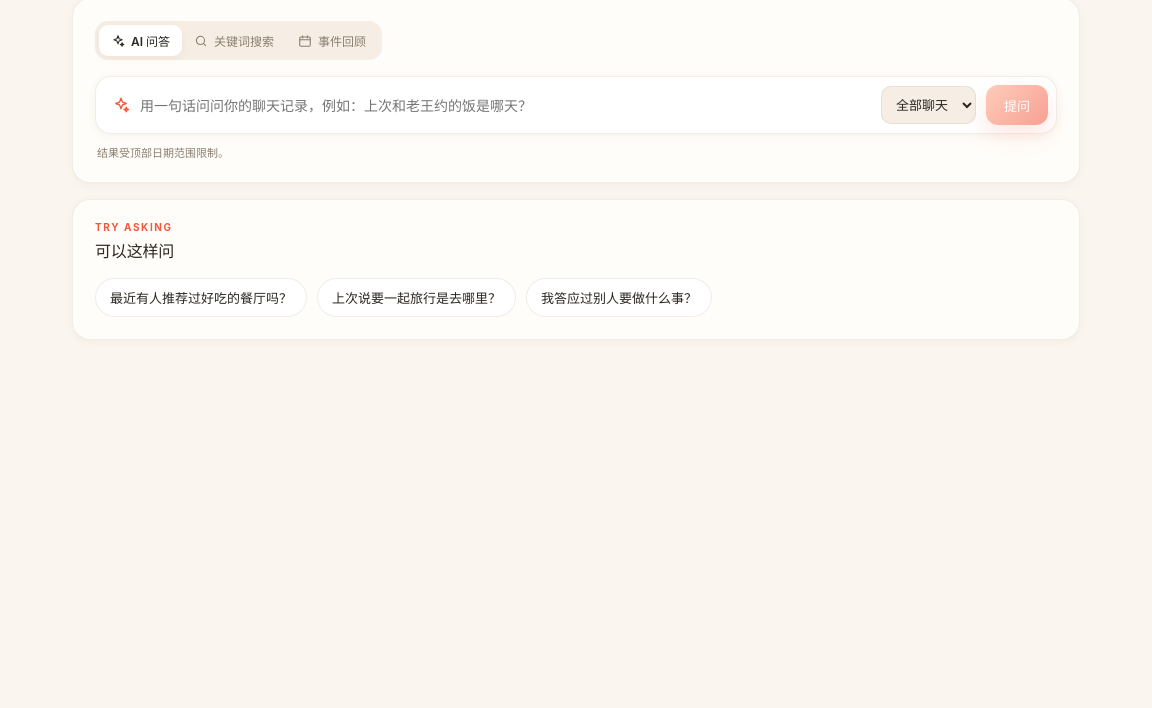
event review › routes a private-chat recap to that chat instead of all chats
Select "小艾" in the dropdown named "搜索范围": (928, 105) top-left (881, 86), bottom-right (976, 124)
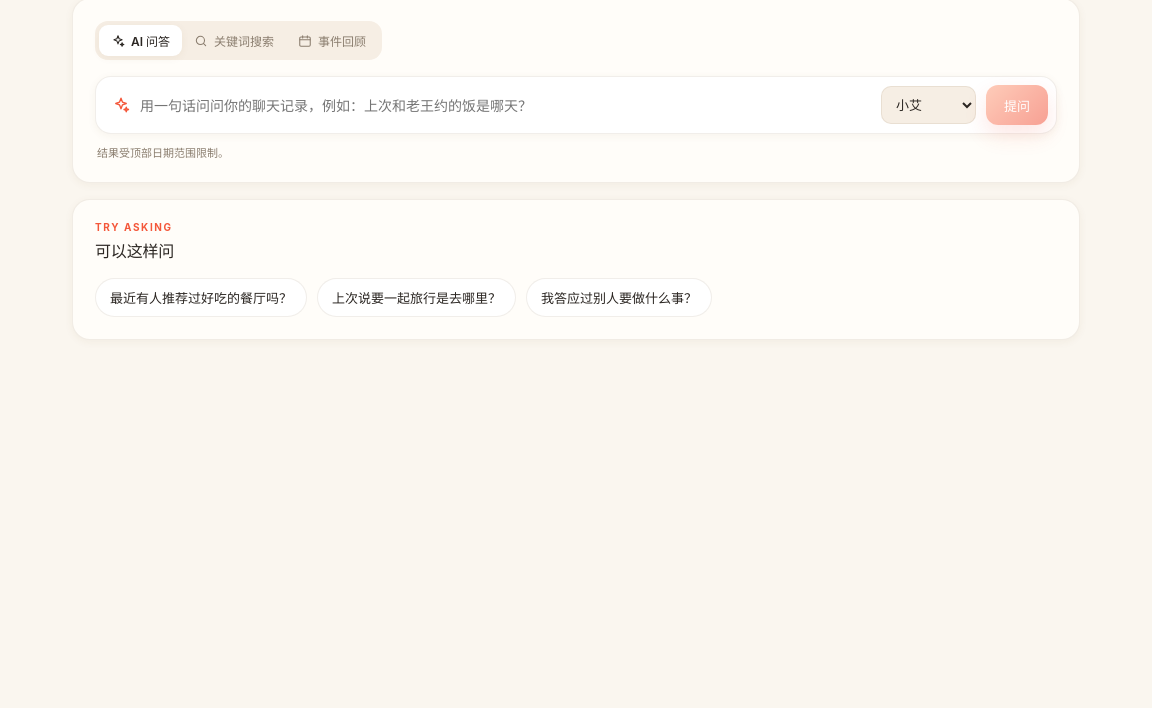
In the field named "输入问题": (506, 105) top-left (140, 88), bottom-right (871, 122), type "2026-10-27发生了什么"
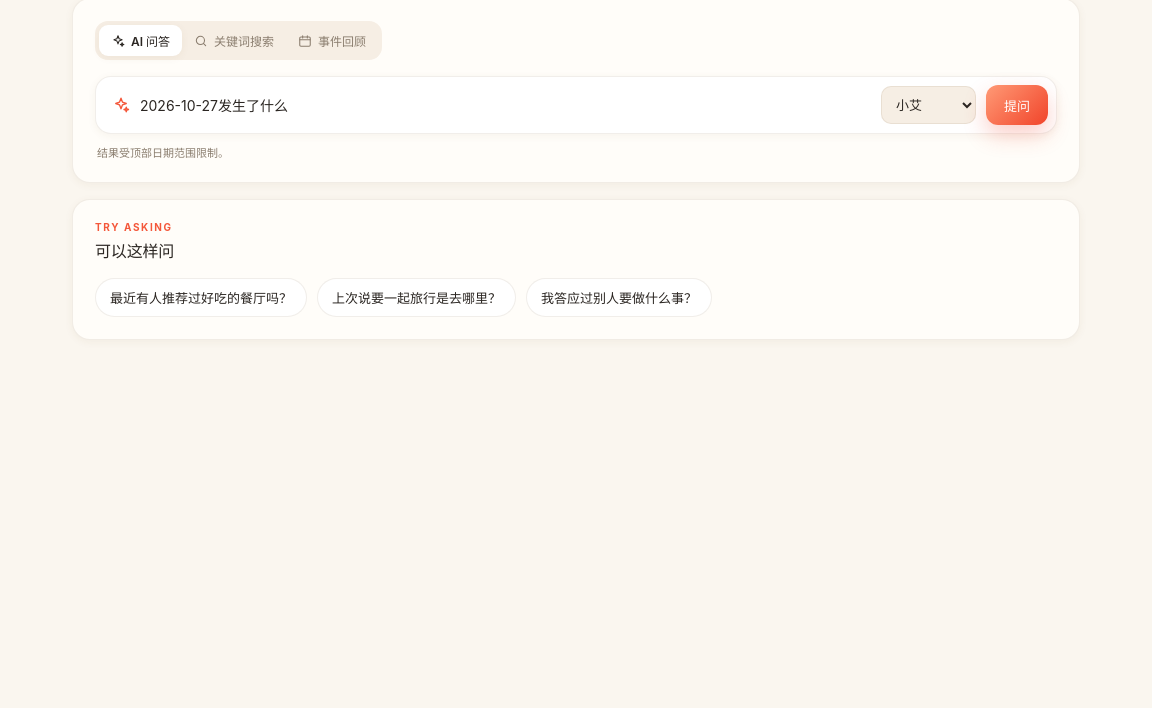
Click the button "提问": click(1017, 105) top-left (986, 85), bottom-right (1048, 125)
(page scrolled)
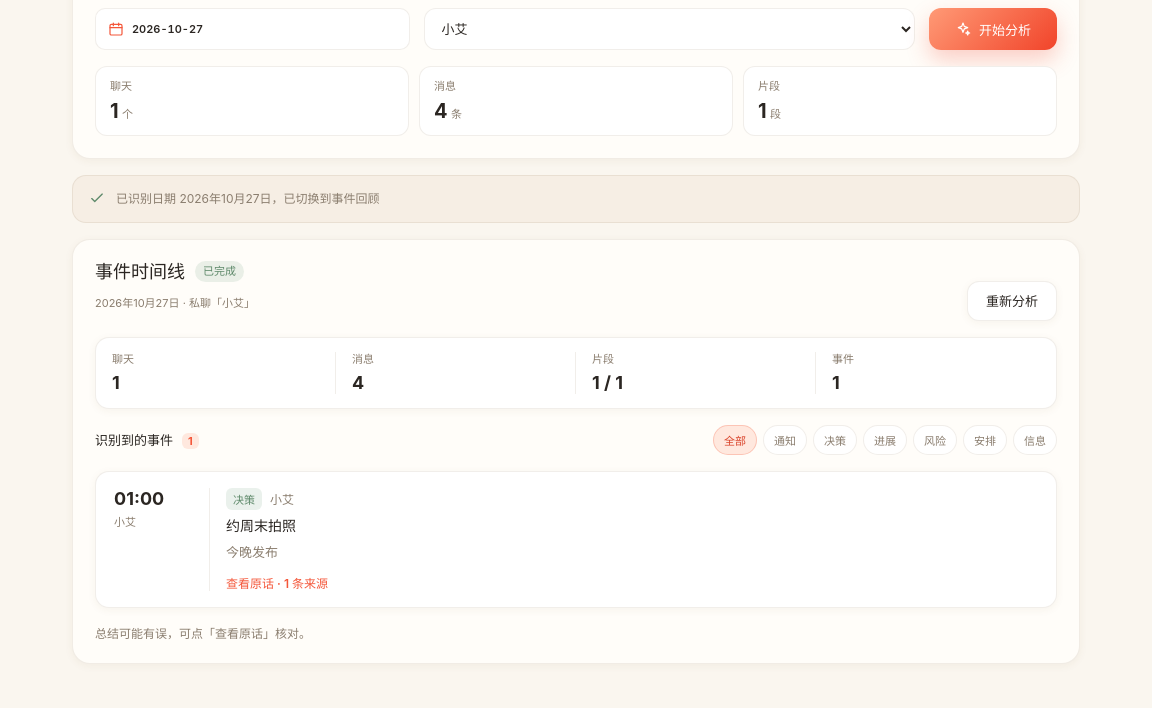
Expected: the text "已识别日期 2026年10月27日，已切换到事件回顾" is shown, top-left (116, 189), bottom-right (380, 209)
Expected: the heading "约周末拍照" is shown, top-left (226, 517), bottom-right (296, 534)
